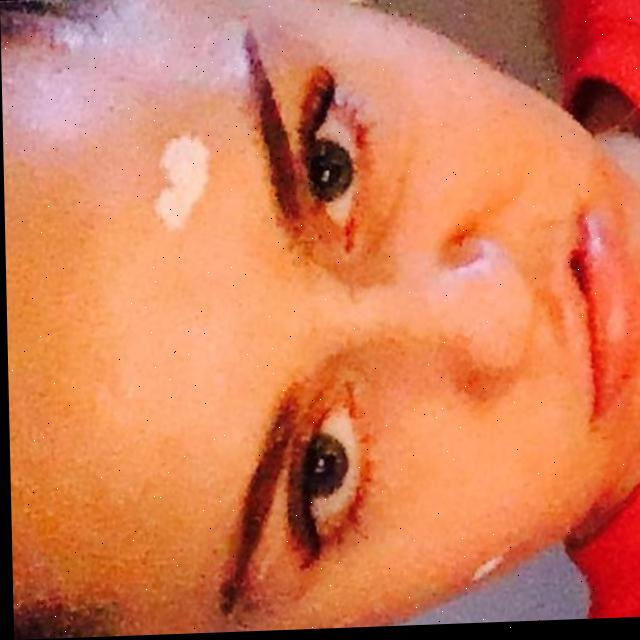Acne: (149, 139, 201, 221), (471, 531, 519, 575)
